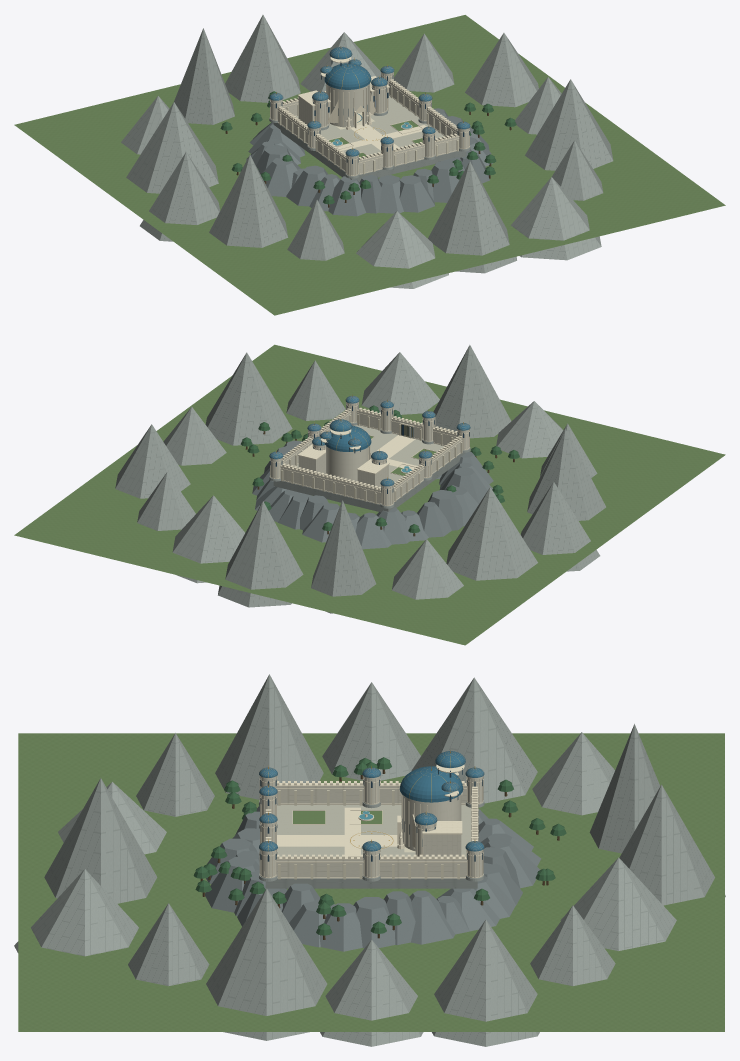
File: demacian_citadel.glb
The picture shows the model from 3 angles, top to bottom: view 1: azimuth 30°, elevation 25°; view 2: azimuth 150°, elevation 25°; view 3: azimuth 270°, elevation 25°; orthographic projection. The views are drawn at different scales.
Visible parts, largest first — view 1: OutsideMeadow, DistantMountains, Cliffs, OutsideCanopies, CourtyardPaving, CitadelFoundation, HallWalls, CurtainWalls__Wall_0_38, BlueDomes__HallRoof, MarbleAvenues, CurtainWalls__Wall_-32_0, CurtainWalls__Wall_32_0; view 2: DistantMountains, OutsideMeadow, Cliffs, OutsideCanopies, CitadelFoundation, CurtainWalls__Wall_0_-38, CourtyardPaving, HallWalls, CurtainWalls__Wall_0_38, PalaceWings, CurtainWalls__Wall_-32_0, BlueDomes__HallRoof (+2 smaller); view 3: OutsideMeadow, DistantMountains, Cliffs, OutsideCanopies, CourtyardPaving, CurtainWalls__Wall_32_0, CitadelFoundation, MarbleAvenues, CurtainWalls__Wall_-32_0, BlueDomes__HallRoof, HallWalls, WallCornices__Wall_32_0 (+3 smaller).
Part boxes in pixels (bbox=[...]): OutsideMeadow: bbox=[14, 15, 725, 315]; DistantMountains: bbox=[121, 15, 613, 288]; Cliffs: bbox=[246, 108, 492, 216]; OutsideCanopies: bbox=[220, 91, 516, 204]; CourtyardPaving: bbox=[296, 96, 444, 155]; CitadelFoundation: bbox=[273, 123, 466, 181]; HallWalls: bbox=[326, 84, 369, 127]; CurtainWalls__Wall_0_38: bbox=[359, 137, 459, 174]; BlueDomes__HallRoof: bbox=[324, 63, 371, 89]; MarbleAvenues: bbox=[337, 123, 426, 150]; CurtainWalls__Wall_-32_0: bbox=[277, 109, 345, 171]; CurtainWalls__Wall_32_0: bbox=[389, 82, 457, 136]; DistantMountains: bbox=[115, 345, 605, 613]; OutsideMeadow: bbox=[14, 344, 725, 645]; Cliffs: bbox=[252, 440, 493, 549]; OutsideCanopies: bbox=[240, 405, 519, 533]; CitadelFoundation: bbox=[273, 452, 465, 512]; CurtainWalls__Wall_0_-38: bbox=[280, 466, 380, 504]; CourtyardPaving: bbox=[294, 425, 444, 482]; HallWalls: bbox=[326, 446, 369, 481]; CurtainWalls__Wall_0_38: bbox=[356, 411, 457, 445]; PalaceWings: bbox=[298, 453, 388, 487]; CurtainWalls__Wall_-32_0: bbox=[394, 439, 462, 501]; BlueDomes__HallRoof: bbox=[324, 425, 371, 451]; OutsideMeadow: bbox=[18, 733, 724, 1031]; DistantMountains: bbox=[14, 674, 725, 1046]; Cliffs: bbox=[205, 806, 541, 951]; OutsideCanopies: bbox=[193, 757, 566, 935]; CourtyardPaving: bbox=[277, 805, 471, 856]; CurtainWalls__Wall_32_0: bbox=[276, 859, 466, 878]; CitadelFoundation: bbox=[265, 878, 477, 888]; MarbleAvenues: bbox=[277, 807, 397, 856]; CurtainWalls__Wall_-32_0: bbox=[276, 786, 466, 804]; BlueDomes__HallRoof: bbox=[399, 766, 463, 802]; HallWalls: bbox=[401, 794, 461, 851]; WallCornices__Wall_32_0: bbox=[276, 856, 466, 877].
Bounding box in the file's own units: 260 × 62.15 × 262.
Materials: 1 (1 with a texture image).
